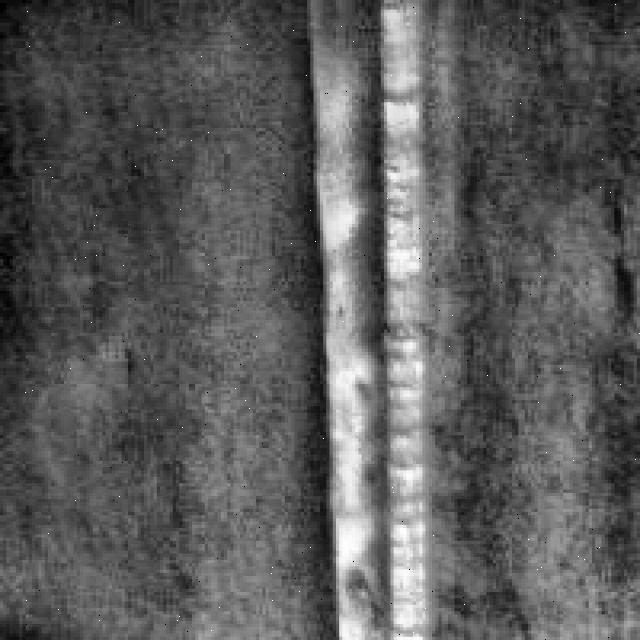Inclusion: (301, 0, 445, 634)
